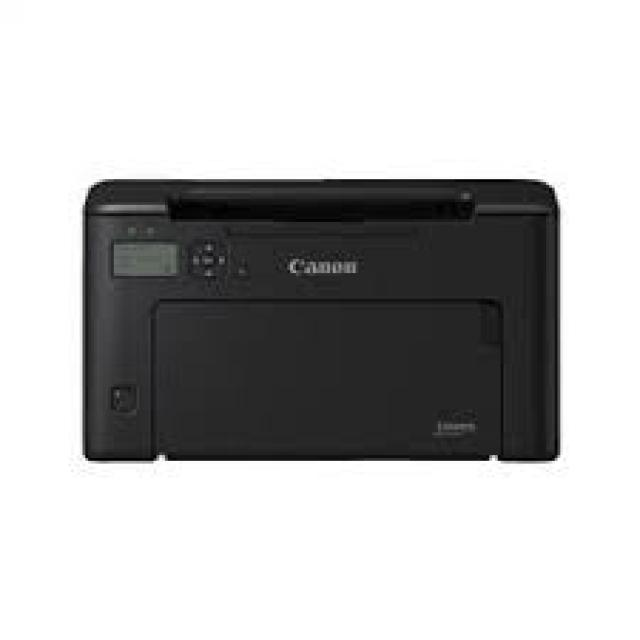printer: (80, 176, 560, 461)
